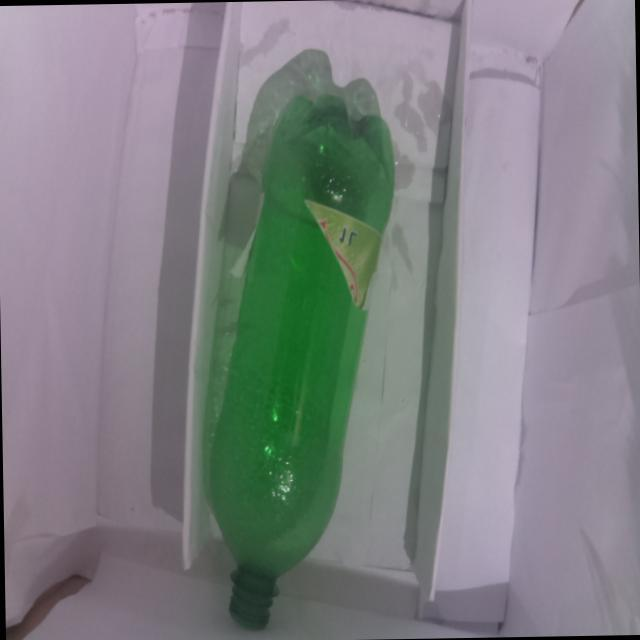good: (187, 92, 410, 638)
